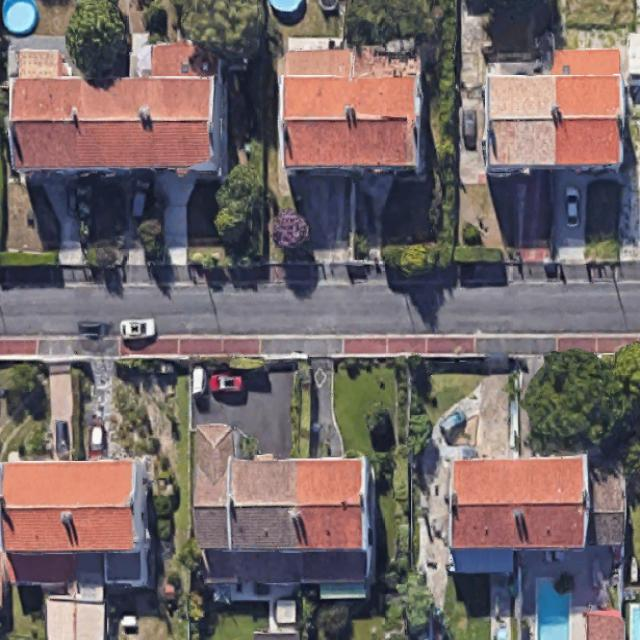maison: (9, 41, 226, 175), (449, 454, 627, 572), (480, 46, 628, 172), (0, 462, 149, 586), (277, 47, 422, 171), (194, 423, 301, 585), (286, 455, 375, 605)
